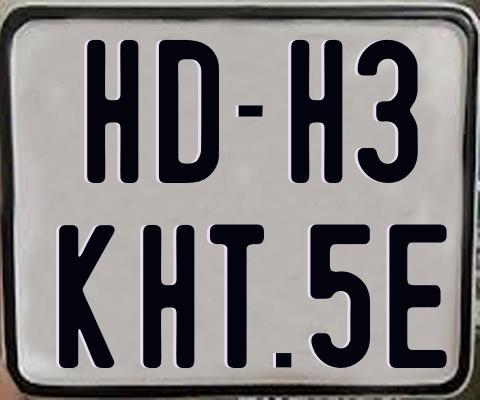3: (356, 39, 418, 185)
5: (309, 224, 371, 370)
D: (157, 40, 220, 188)
E: (386, 222, 448, 370)
H: (86, 39, 143, 187), (288, 39, 343, 185), (140, 222, 194, 367)
K: (59, 223, 120, 370)
T: (208, 221, 264, 365)
